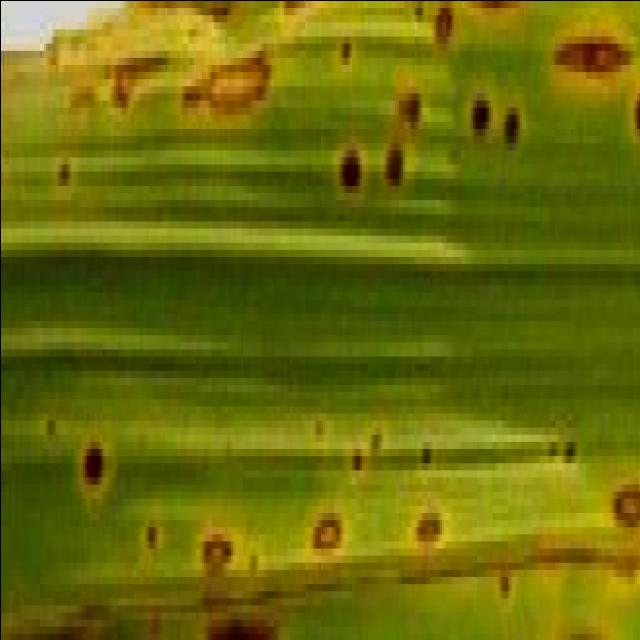Brown_Spot: (72, 42, 178, 156), (178, 64, 282, 164), (550, 0, 634, 114), (298, 504, 352, 590), (201, 519, 238, 619), (410, 491, 450, 583), (74, 441, 115, 526), (498, 86, 528, 192), (466, 92, 496, 184), (544, 426, 590, 484), (382, 128, 410, 220), (464, 0, 534, 36), (388, 86, 426, 150), (336, 142, 368, 206), (434, 14, 464, 71), (136, 519, 166, 576), (336, 28, 360, 86), (498, 576, 522, 626), (609, 498, 640, 534), (632, 50, 640, 164)
